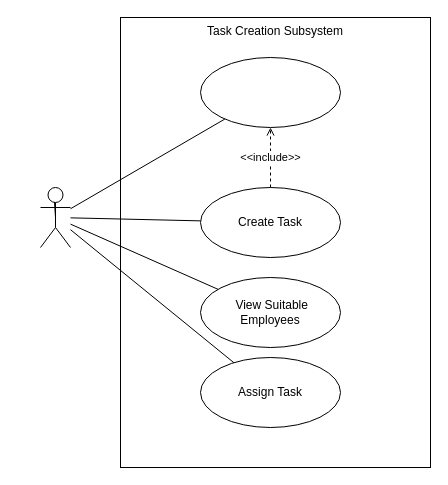
Some shapes in this 448 by 485 pixel diagram are drawn without their labels. Here are the shapes that lost their labels. From the top down, the centre of each, then its label:
At point (270, 92): "Create Activity".
At point (55, 217): "Administration".
